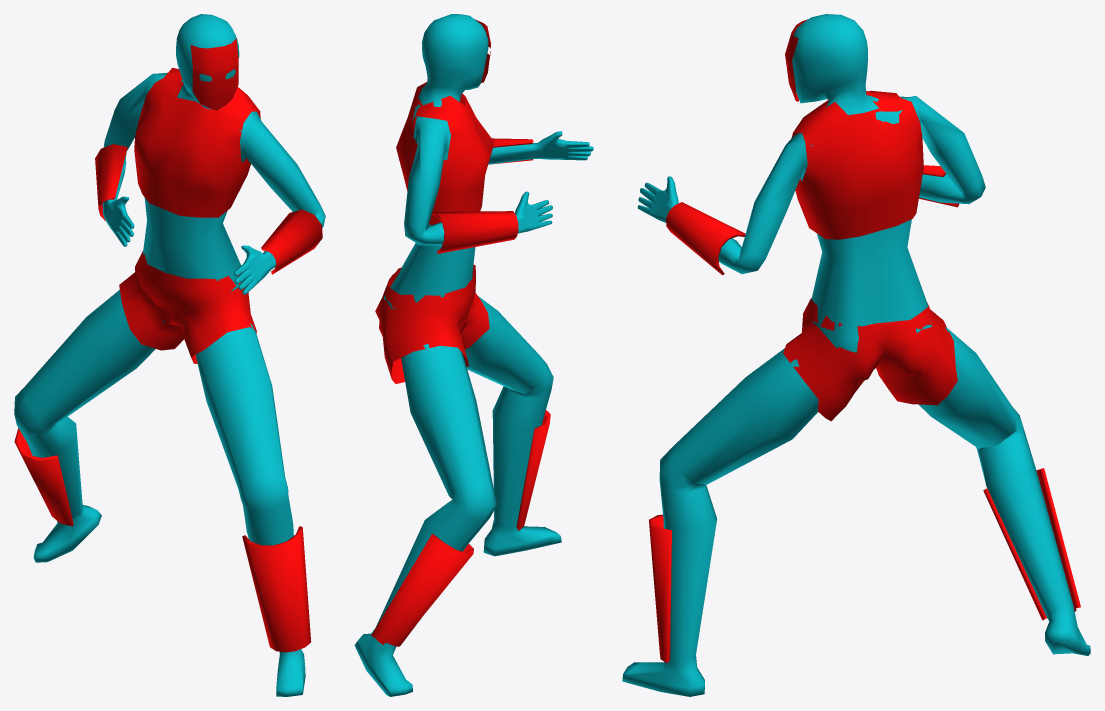
Rendered from d-func FIX [EX].obj.
3 views of the same model, side by side, from view 1: azimuth 30°, elevation 25°; view 2: azimuth 150°, elevation 25°; view 3: azimuth 270°, elevation 25° (orthographic). The views are drawn at different scales.
Visible parts, largest first — view 1: D-Func.001_Cube.001, D-Func_Cube; view 2: D-Func.001_Cube.001, D-Func_Cube; view 3: D-Func.001_Cube.001, D-Func_Cube.
Boxes of the visible parts, <box> form: D-Func.001_Cube.001: <box>14,14,325,696</box>; D-Func_Cube: <box>14,38,322,652</box>; D-Func.001_Cube.001: <box>354,14,593,696</box>; D-Func_Cube: <box>371,19,550,646</box>; D-Func.001_Cube.001: <box>622,14,1090,696</box>; D-Func_Cube: <box>649,19,1080,662</box>.
Bounding box in the file's own units: 0.6394 × 1.9 × 1.21.
